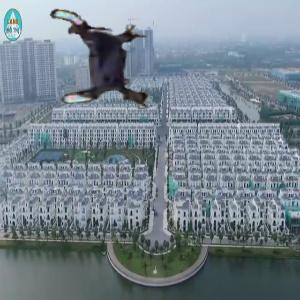drone: (42, 1, 162, 121)
